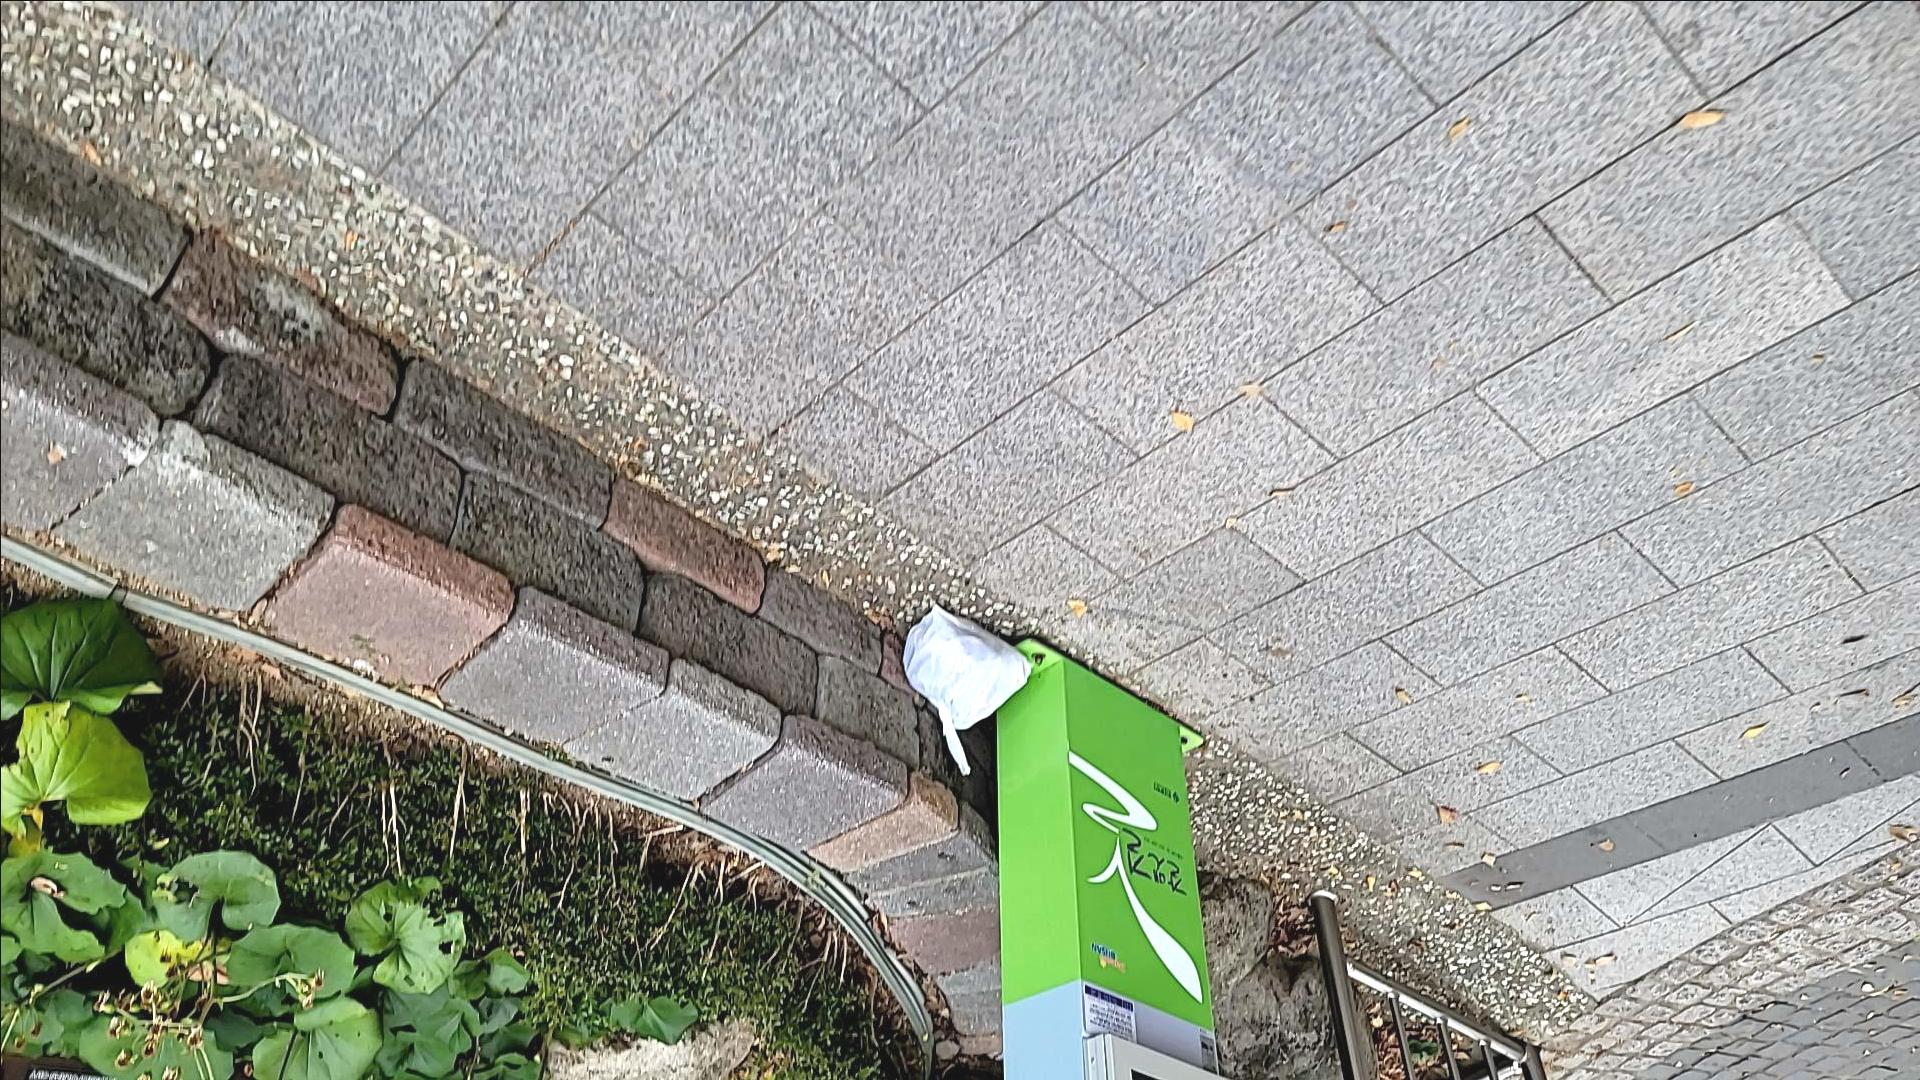white_bag: (880, 597, 1042, 786)
